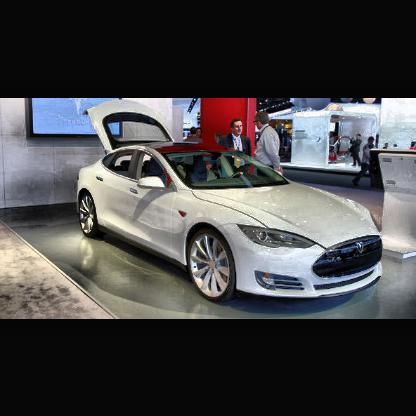Tesla Model S Sedan 2012: (77, 99, 387, 305)
